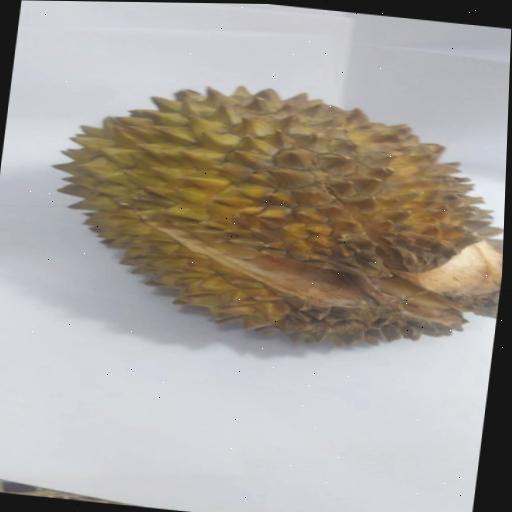rot: (9, 56, 510, 372)
